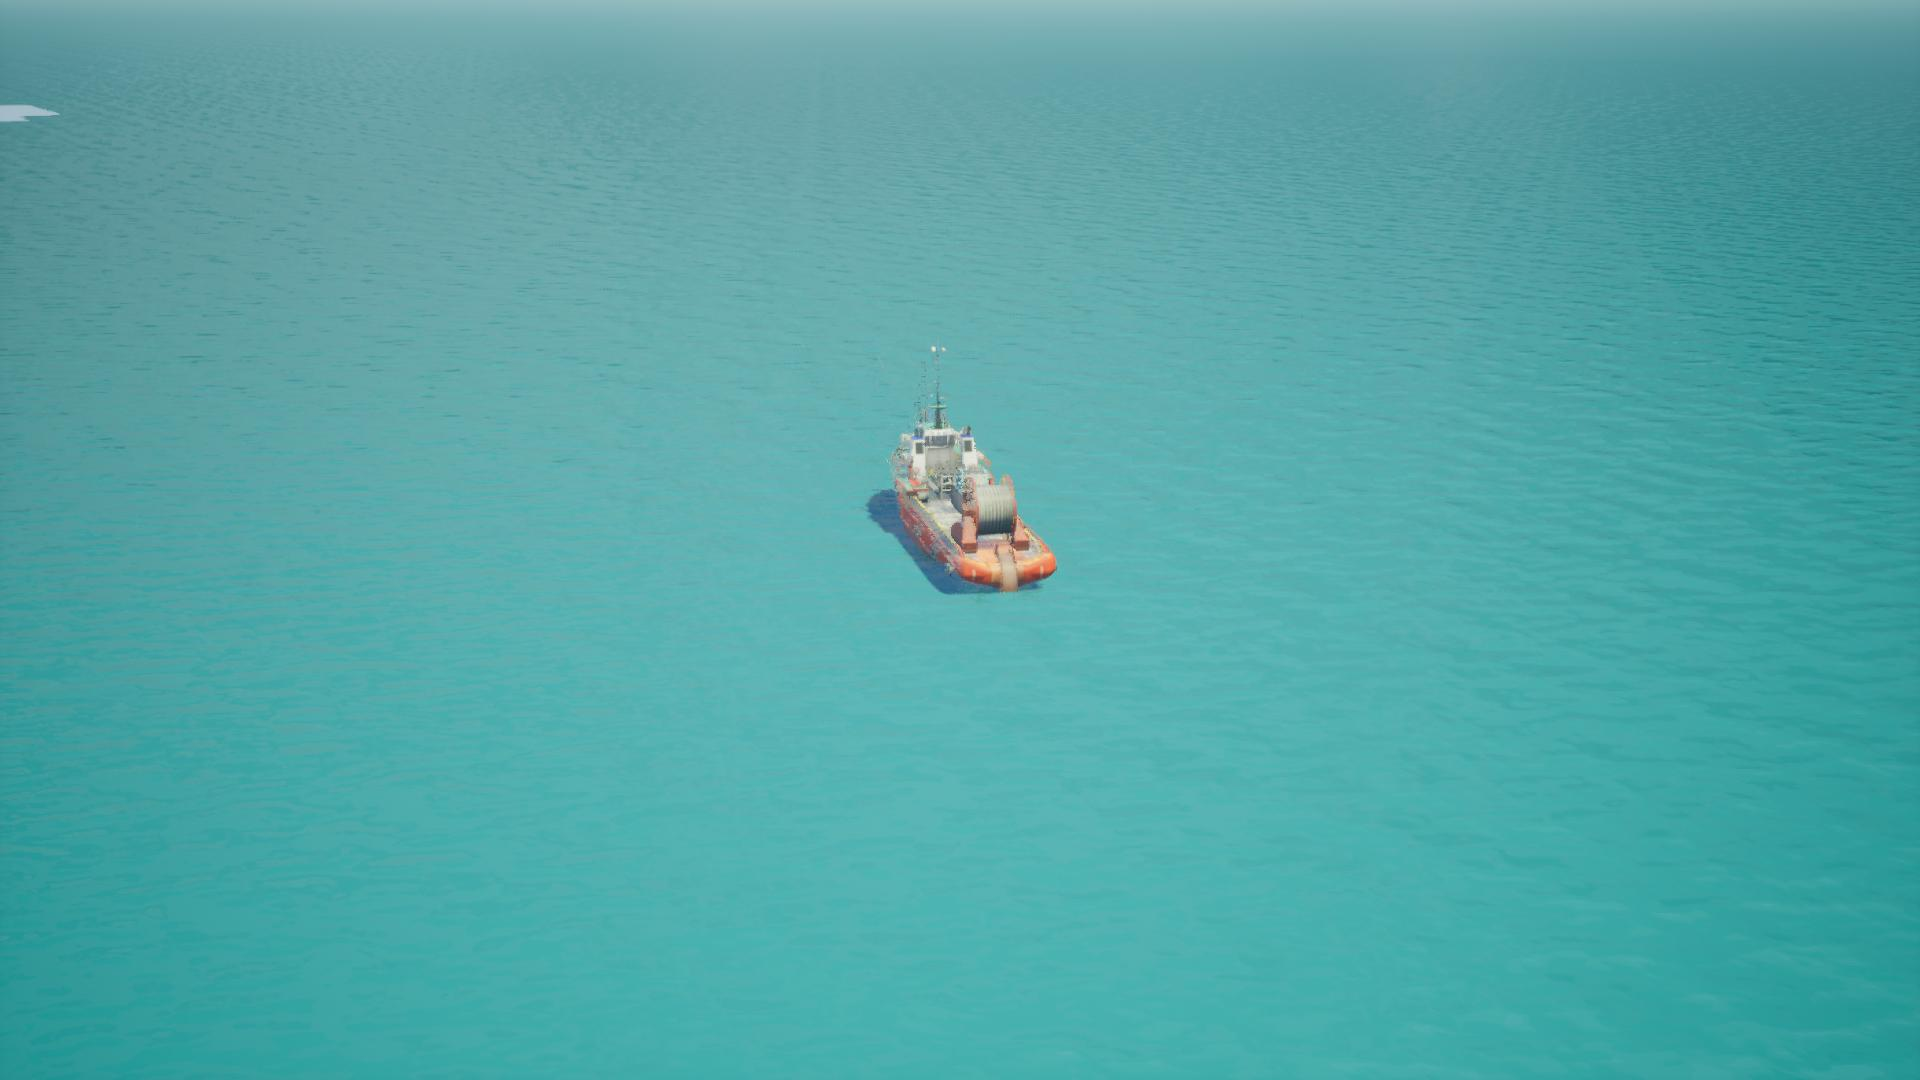Tug Boat: (882, 349, 1038, 600)
